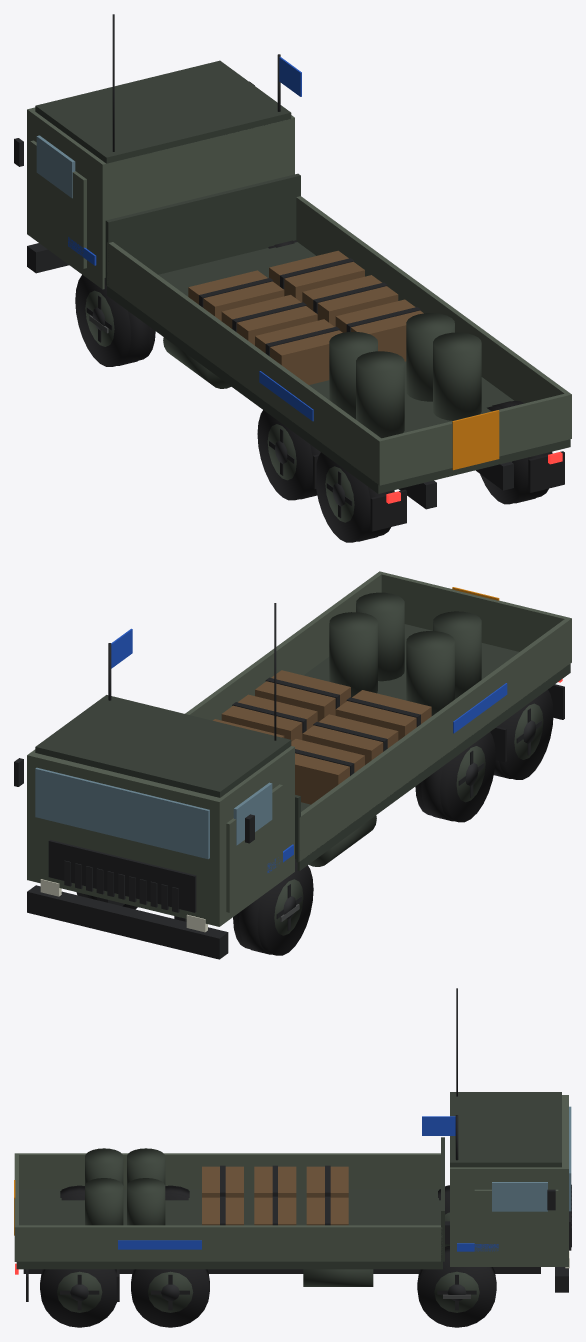
The model's file is Supply_Blue.fbx.
The picture shows the model from 3 angles, top to bottom: view 1: azimuth 30°, elevation 25°; view 2: azimuth 150°, elevation 25°; view 3: azimuth 270°, elevation 25°; orthographic projection. The views are drawn at different scales.
Parts seen in each view (by area): view 1: Cab, CabRoof, BedSideL, Headboard, BedFloor, BedSideR, Tailgate, DoorL1Panel, FuelBarrel3, FuelBarrel2, AmmoCrate2_0, FuelBarrel1 (+23 smaller); view 2: Cab, CabRoof, BedSideL, Windshield, Tailgate, Bumper, BedSideR, BedFloor, GrilleFront, DoorL1Panel, FuelBarrel1, FuelBarrel0 (+19 smaller); view 3: BedSideR, BedFloor, BedSideL, CabRoof, Cab, DoorR1Panel, TyreR1, TyreR2, TyreR3, FuelBarrel3, FuelBarrel1, DoorR1Window (+17 smaller).
Boxes of the visible parts, box(x1,y1,x2,y2) form: Cab: box(27, 107, 294, 289); CabRoof: box(35, 60, 291, 163); BedSideL: box(107, 242, 382, 484); Headboard: box(105, 173, 300, 285); BedFloor: box(107, 242, 570, 493); BedSideR: box(296, 196, 569, 403); Tailgate: box(377, 393, 571, 485); DoorL1Panel: box(30, 140, 86, 268); FuelBarrel3: box(433, 332, 481, 420); FuelBarrel2: box(356, 351, 404, 438); AmmoCrate2_0: box(255, 319, 342, 384); FuelBarrel1: box(406, 313, 454, 401); Cab: box(27, 746, 294, 926); CabRoof: box(35, 695, 291, 797); BedSideL: box(299, 618, 570, 861); Windshield: box(35, 767, 209, 859); Tailgate: box(377, 571, 571, 663); Bumper: box(27, 885, 228, 959); BedSideR: box(185, 572, 382, 720); BedFloor: box(297, 624, 570, 871); GrilleFront: box(48, 840, 196, 912); DoorL1Panel: box(226, 784, 282, 912); FuelBarrel1: box(329, 612, 377, 697); FuelBarrel0: box(406, 631, 454, 715); BedSideR: box(16, 1225, 442, 1261); BedFloor: box(16, 1189, 442, 1269); BedSideL: box(17, 1153, 440, 1189); CabRoof: box(450, 1092, 561, 1167); Cab: box(450, 1095, 568, 1266); DoorR1Panel: box(474, 1189, 558, 1260); TyreR1: box(418, 1246, 496, 1327); TyreR2: box(131, 1269, 209, 1327); TyreR3: box(40, 1269, 116, 1327); FuelBarrel3: box(85, 1178, 123, 1225); FuelBarrel1: box(127, 1178, 165, 1225); DoorR1Window: box(492, 1182, 547, 1211).
Size of the model in its own units: 306 by 799 by 430.
